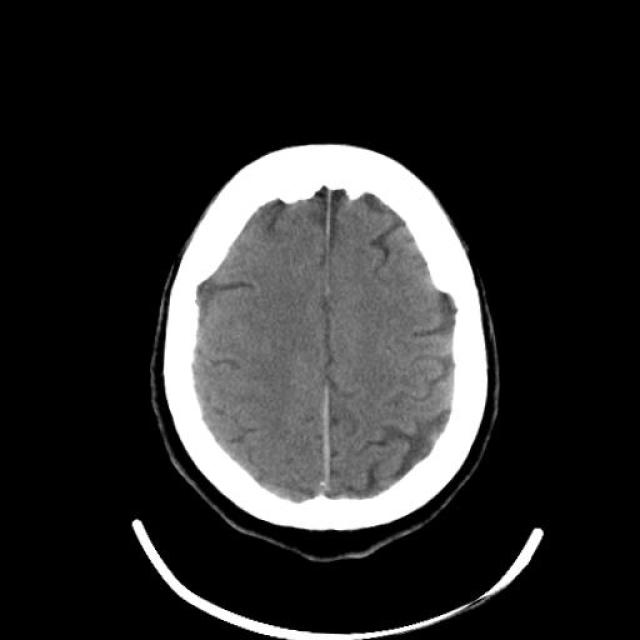Subdural: (293, 386, 352, 516)
